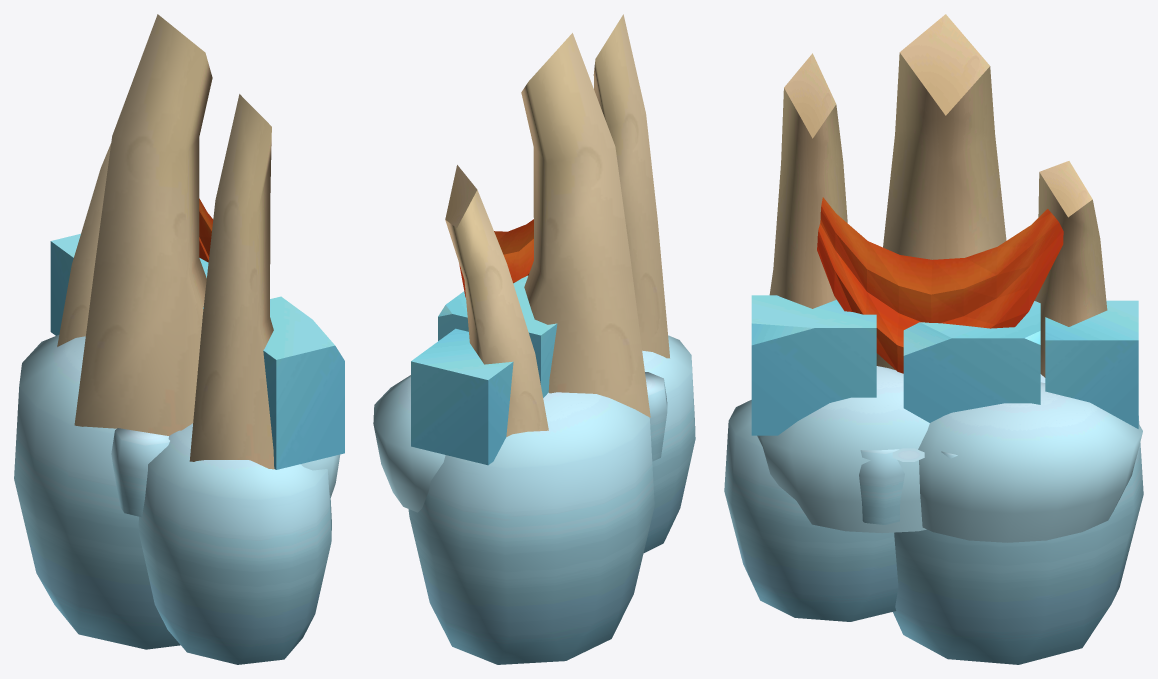
Rendered from Wall1B-006_40_19_5859.fbx.
3 renders of one model, left to right at view 1: azimuth 30°, elevation 25°; view 2: azimuth 150°, elevation 25°; view 3: azimuth 270°, elevation 25°, orthographic. The views are drawn at different scales.
Visible parts, largest first — view 1: Bone1 (1), Snowpile (8), Snowpile (7), Bone2 (1), Wall, Bone4 (1), Snowpile (6), Flag1.001 (1); view 2: Snowpile (7), Bone1 (1), Wall, Bone4 (1), Bone2 (1), Snowpile (8), Flag1.001 (1), Snowpile (6); view 3: Wall, Snowpile (7), Bone1 (1), Flag1.001 (1), Snowpile (8), Bone2 (1), Bone4 (1), Snowpile (5).
Boxes of the visible parts, left/top/right/bottom form: Bone1 (1): left=74, top=14, right=212, bottom=435; Snowpile (8): left=138, top=423, right=331, bottom=664; Snowpile (7): left=14, top=335, right=180, bottom=649; Bone2 (1): left=189, top=94, right=274, bottom=469; Wall: left=50, top=233, right=344, bottom=497; Bone4 (1): left=57, top=143, right=111, bottom=346; Snowpile (6): left=111, top=428, right=169, bottom=517; Flag1.001 (1): left=199, top=198, right=213, bottom=262; Snowpile (7): left=408, top=392, right=654, bottom=664; Bone1 (1): left=521, top=33, right=650, bottom=417; Wall: left=373, top=275, right=557, bottom=512; Bone4 (1): left=445, top=165, right=548, bottom=436; Bone2 (1): left=593, top=14, right=669, bottom=358; Snowpile (8): left=642, top=335, right=695, bottom=552; Flag1.001 (1): left=459, top=219, right=533, bottom=297; Snowpile (6): left=645, top=372, right=667, bottom=461; Wall: left=751, top=295, right=1142, bottom=542; Snowpile (7): left=893, top=374, right=1143, bottom=664; Bone1 (1): left=876, top=14, right=1006, bottom=369; Flag1.001 (1): left=817, top=197, right=1063, bottom=373; Snowpile (8): left=724, top=400, right=898, bottom=621; Bone2 (1): left=769, top=53, right=847, bottom=308; Bone4 (1): left=1034, top=161, right=1107, bottom=377; Snowpile (5): left=859, top=449, right=904, bottom=524.
Bounding box in the file's own units: 2.19 × 5.09 × 3.19.
